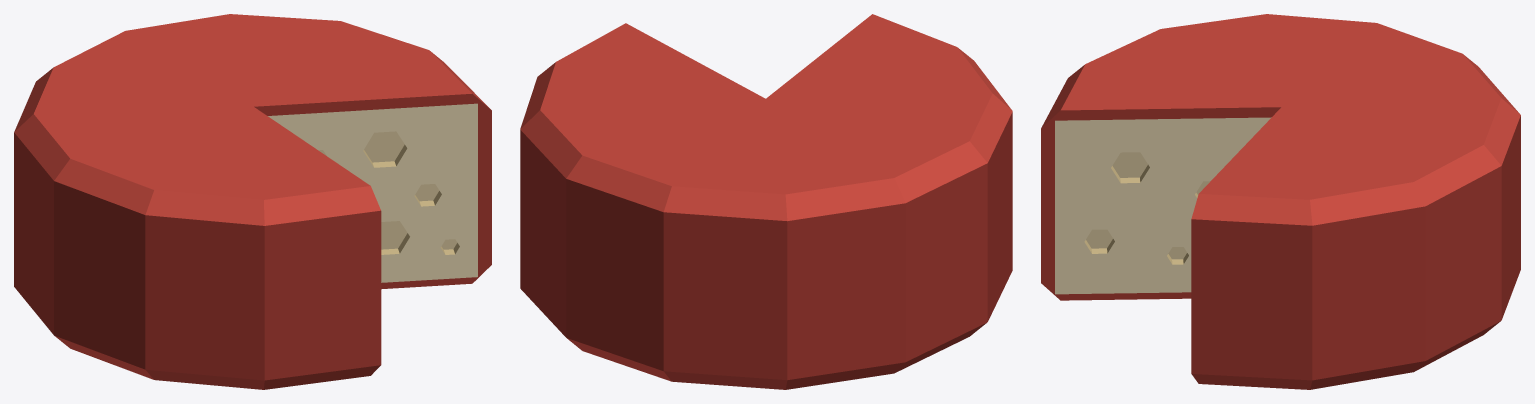
Rendered from FMS_Workshop_PRD_02.fbx.
3 views of the same model, side by side, from view 1: azimuth 30°, elevation 25°; view 2: azimuth 150°, elevation 25°; view 3: azimuth 270°, elevation 25° (orthographic). The views are drawn at different scales.
Parts seen in each view (by area): view 1: FMS_Workshop_PRD_02_Body; view 2: FMS_Workshop_PRD_02_Body; view 3: FMS_Workshop_PRD_02_Body.
Boxes of the visible parts, x1,y1,x2,y2 form: FMS_Workshop_PRD_02_Body: [14, 14, 491, 389]; FMS_Workshop_PRD_02_Body: [520, 14, 1012, 389]; FMS_Workshop_PRD_02_Body: [1041, 14, 1520, 389].
Bounding box in the file's own units: 0.3422 × 0.15 × 0.3431.
1 material, 1 textured.
